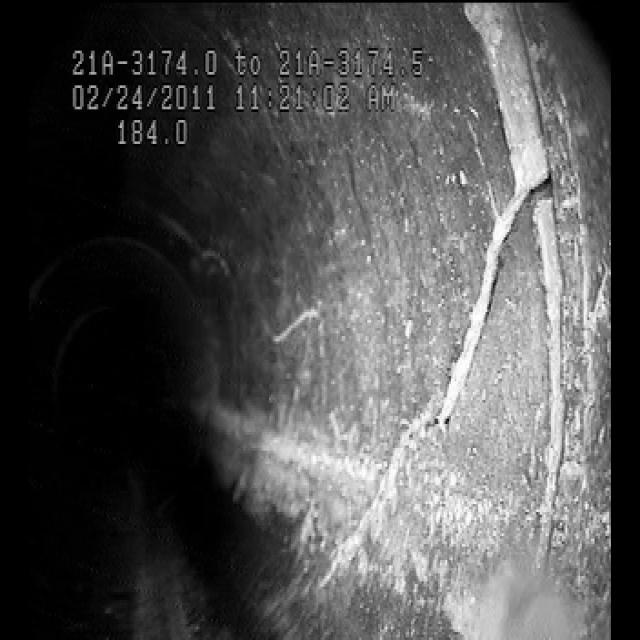Crack: (380, 153, 542, 568)
